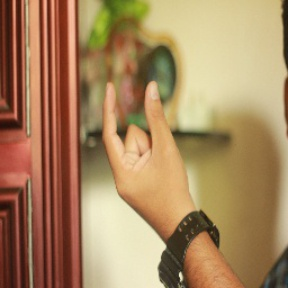U: (94, 75, 196, 212)
